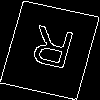R: (25, 25, 78, 79)
